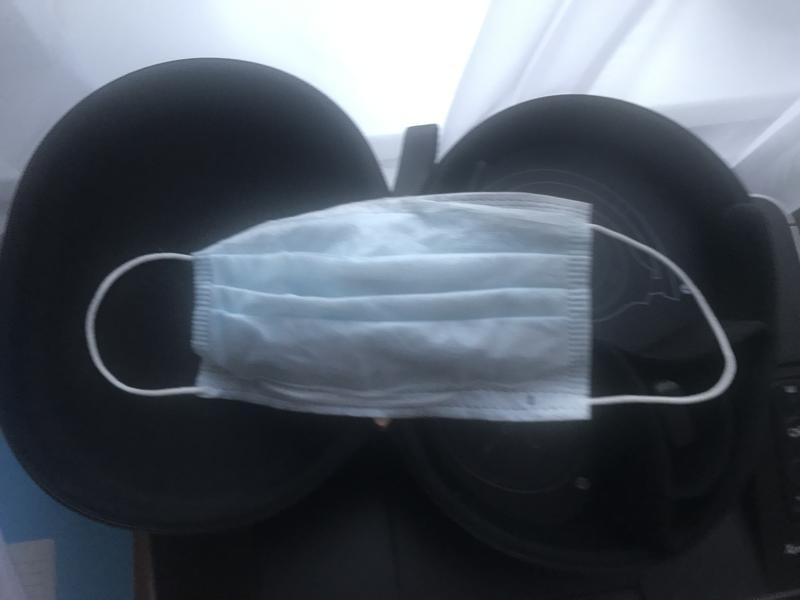medical_mask: (85, 194, 739, 423)
